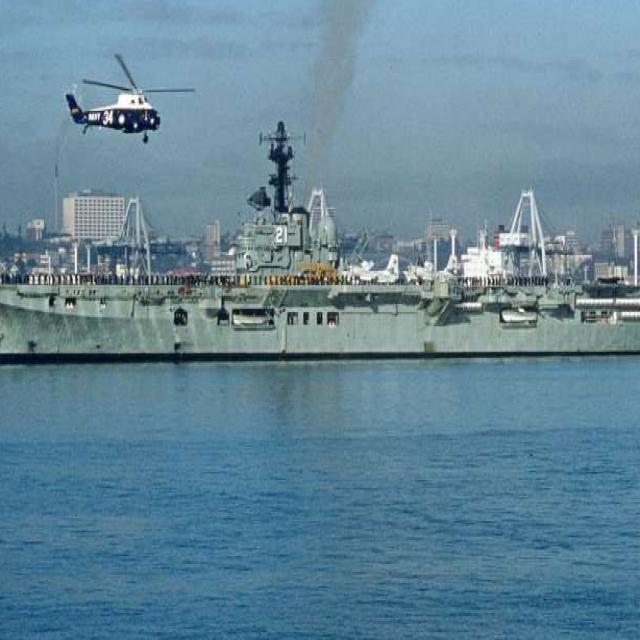Portanaves: (1, 129, 640, 380)
